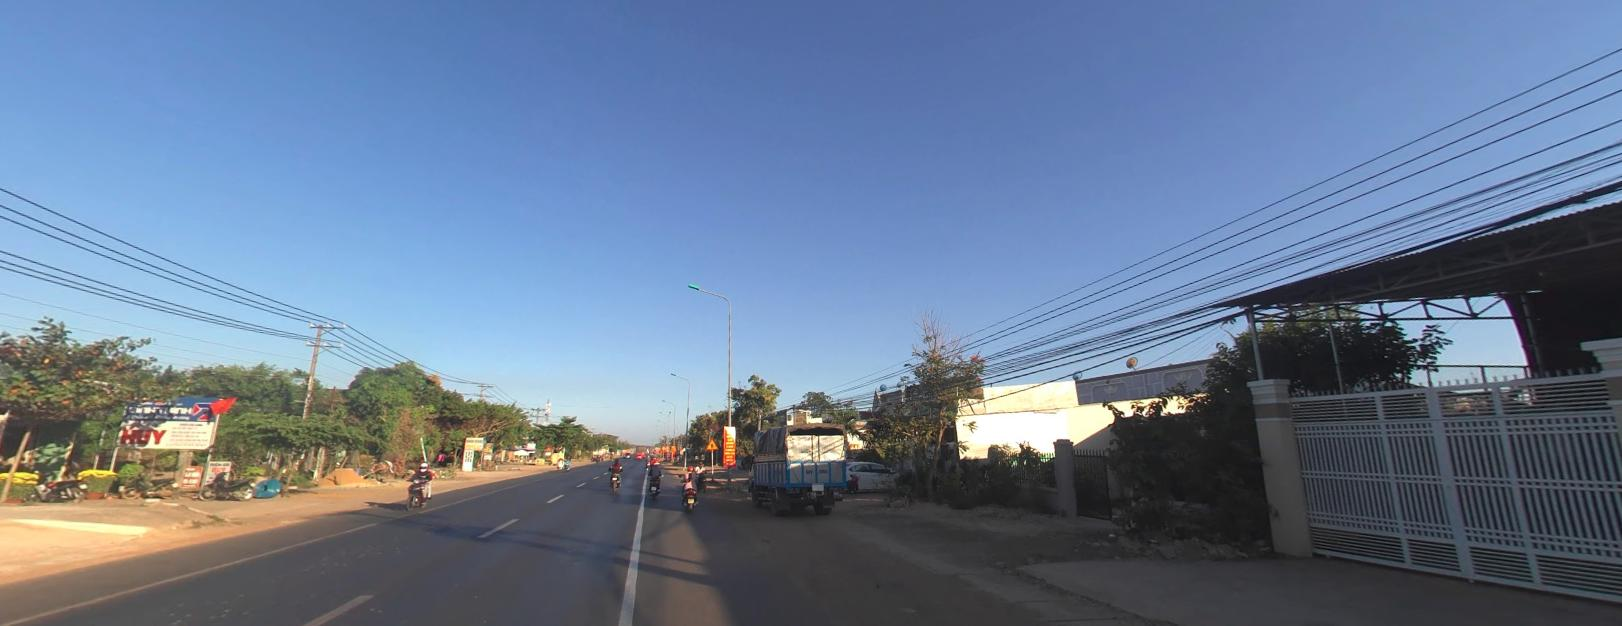Nguy hiem: (705, 437, 719, 449), (705, 437, 717, 448), (705, 438, 718, 448)
